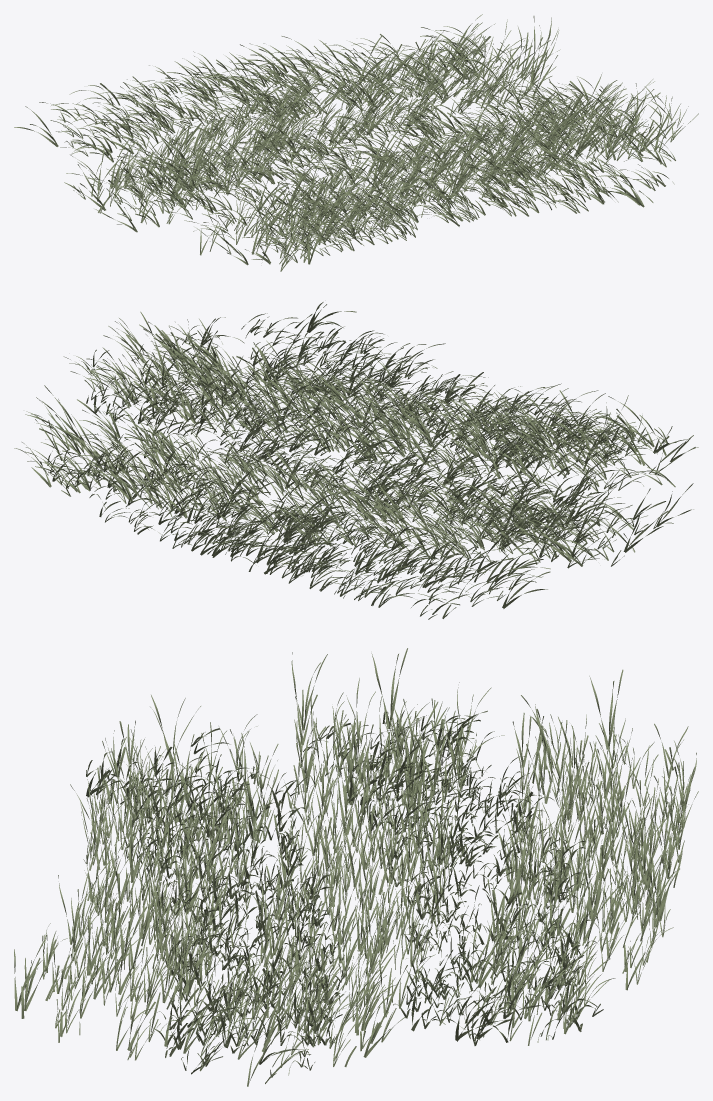
The model's file is largeGrassPatch2.fbx.
3 renders of one model, top to bottom at view 1: azimuth 30°, elevation 25°; view 2: azimuth 150°, elevation 25°; view 3: azimuth 270°, elevation 25°, orthographic. The views are drawn at different scales.
Visible parts, largest first — view 1: grassCarpet1Main; view 2: grassCarpet1Main; view 3: grassCarpet1Main.
Boxes of the visible parts, box(x1,y1,x2,y2) form: grassCarpet1Main: box(14, 14, 698, 271); grassCarpet1Main: box(14, 302, 698, 619); grassCarpet1Main: box(14, 648, 698, 1086).
Size of the model in its own units: 10.29 by 0.944 by 7.65.
